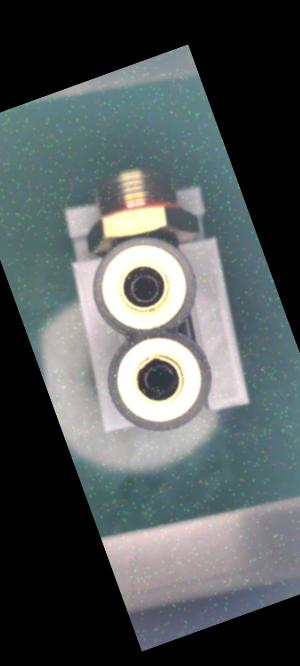bump: (140, 347, 164, 366)
off-centered: (135, 362, 182, 403)
